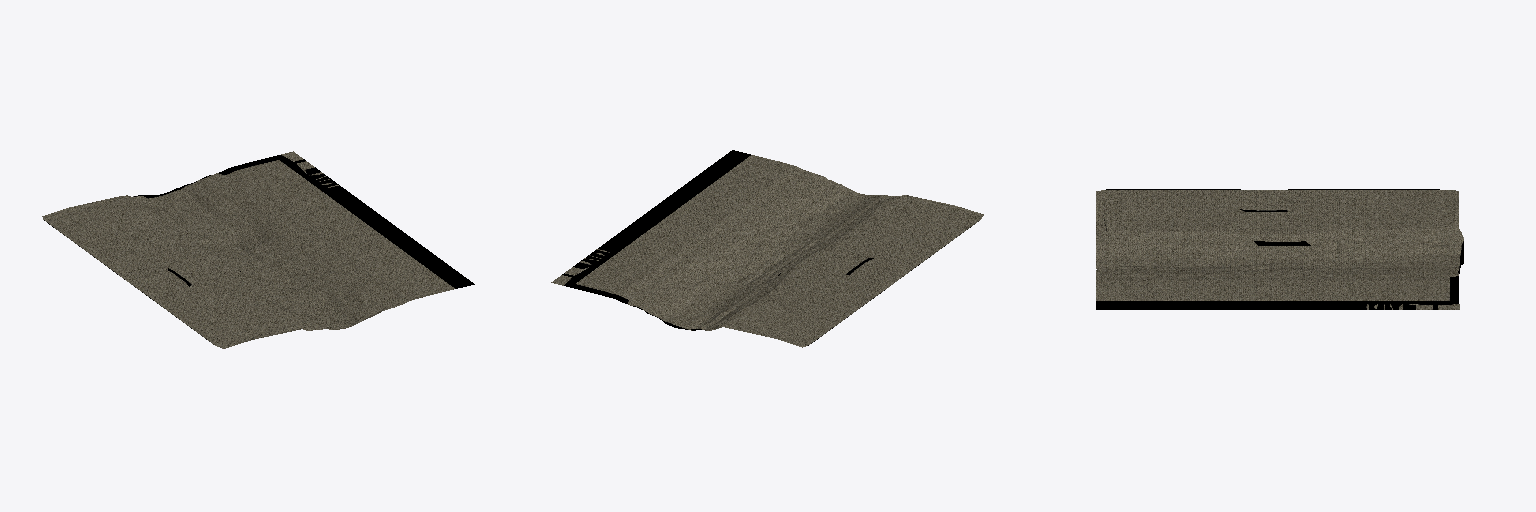
The picture shows the model from 3 angles: view 1: azimuth 30°, elevation 25°; view 2: azimuth 150°, elevation 25°; view 3: azimuth 270°, elevation 25°; orthographic projection.
Visible parts, largest first — view 1: Ground; view 2: Ground; view 3: Ground.
Boxes of the visible parts, x1=… form: Ground: x1=42, y1=151, x2=474, y2=348; Ground: x1=551, y1=150, x2=983, y2=347; Ground: x1=1096, y1=189, x2=1463, y2=309.
Bounding box in the file's own units: 4306 × 253 × 5384.
1 materials, 1 textured.